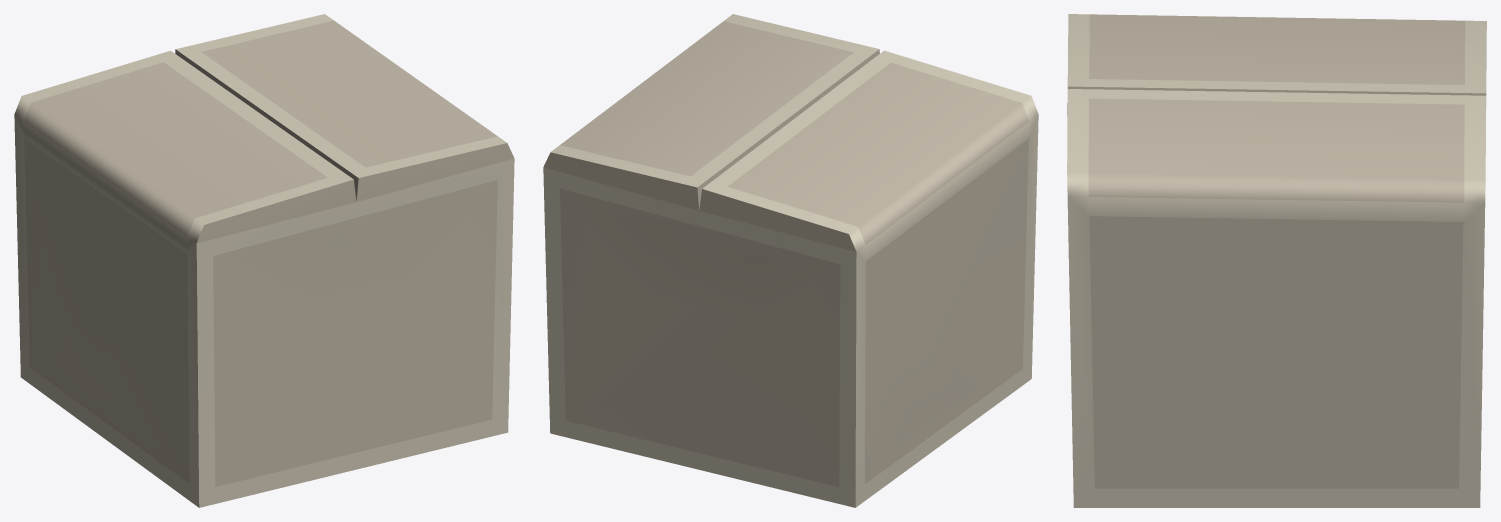
File: FloatingBoxD.glb
3 views of the same model, side by side, from view 1: azimuth 30°, elevation 25°; view 2: azimuth 150°, elevation 25°; view 3: azimuth 270°, elevation 25° (orthographic). The views are drawn at different scales.
Parts seen in each view (by area): view 1: FloatingBoxD; view 2: FloatingBoxD; view 3: FloatingBoxD.
Boxes of the visible parts, x1=… form: FloatingBoxD: x1=14, y1=14, x2=514, y2=507; FloatingBoxD: x1=543, y1=14, x2=1038, y2=507; FloatingBoxD: x1=1067, y1=14, x2=1486, y2=507.
Bounding box in the file's own units: 0.5842 × 0.5147 × 0.5855.
